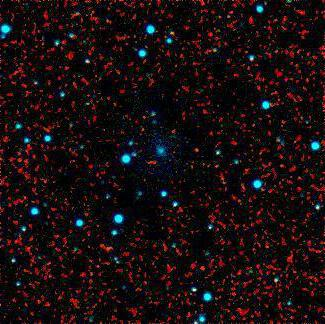star: (179, 133, 209, 163)
